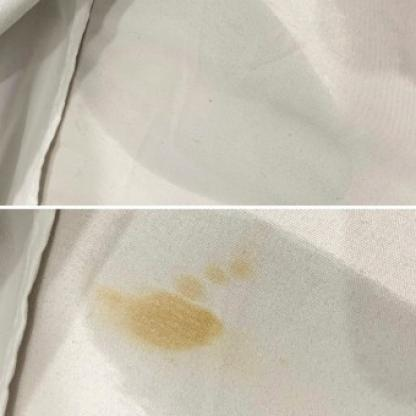coffee: (129, 303, 220, 345), (177, 278, 203, 296)
